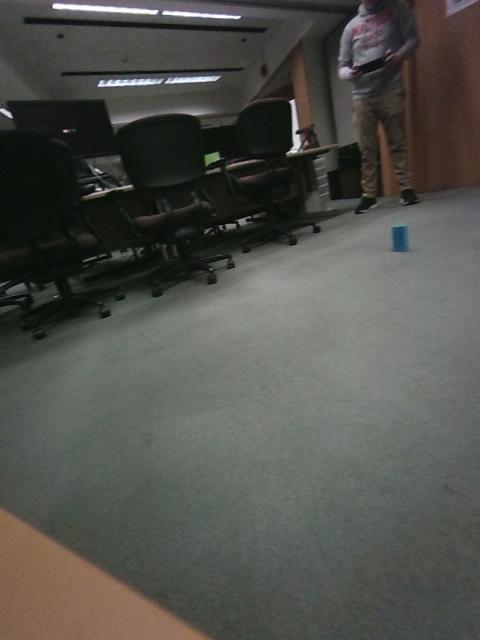block: (189, 376, 255, 431)
